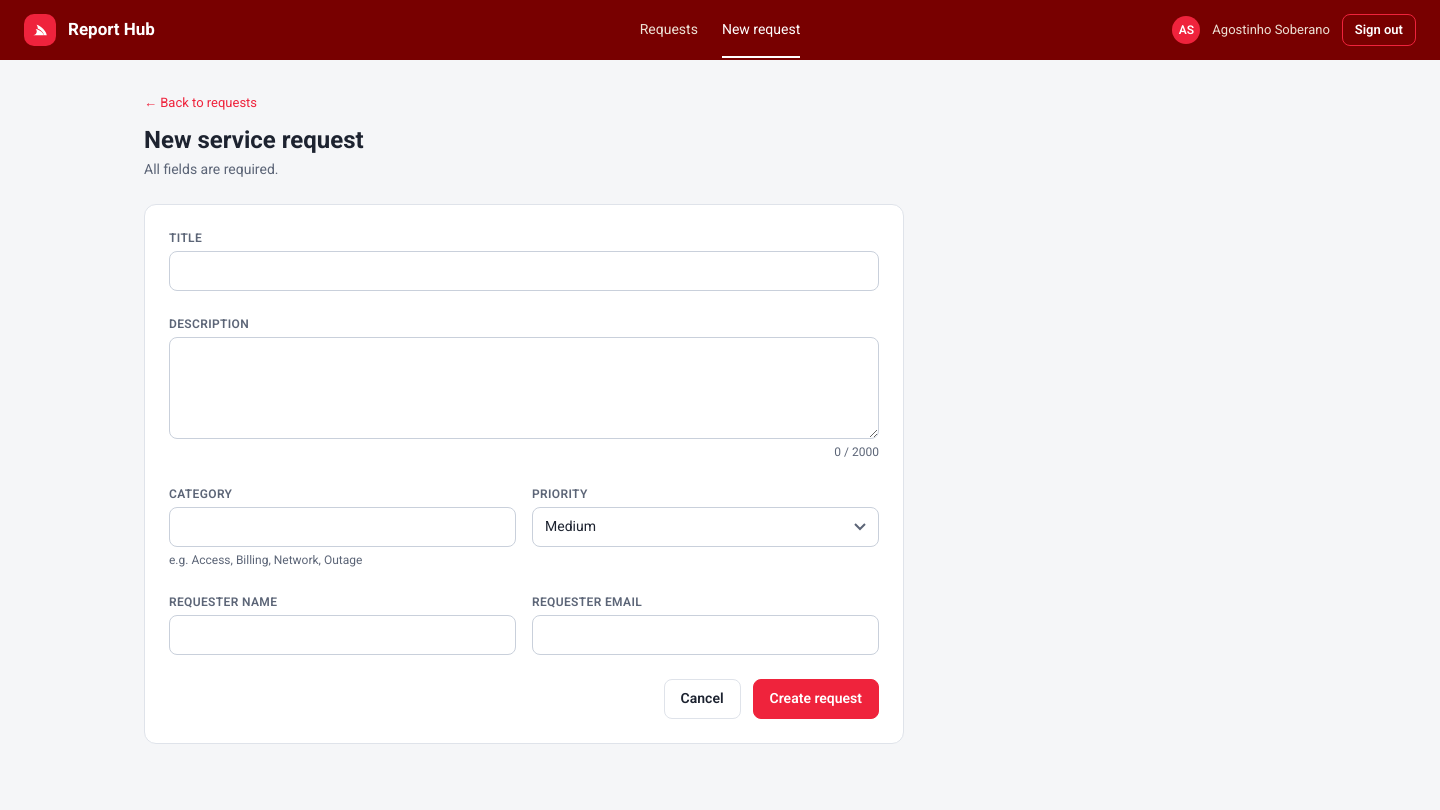
Test case: create request › puts the server's 422 messages under the matching fields
Type "March statement missing" into the field labelled "Title".
click(524, 270); type("March statement missing")  # box top-left (169, 250), bottom-right (879, 290)
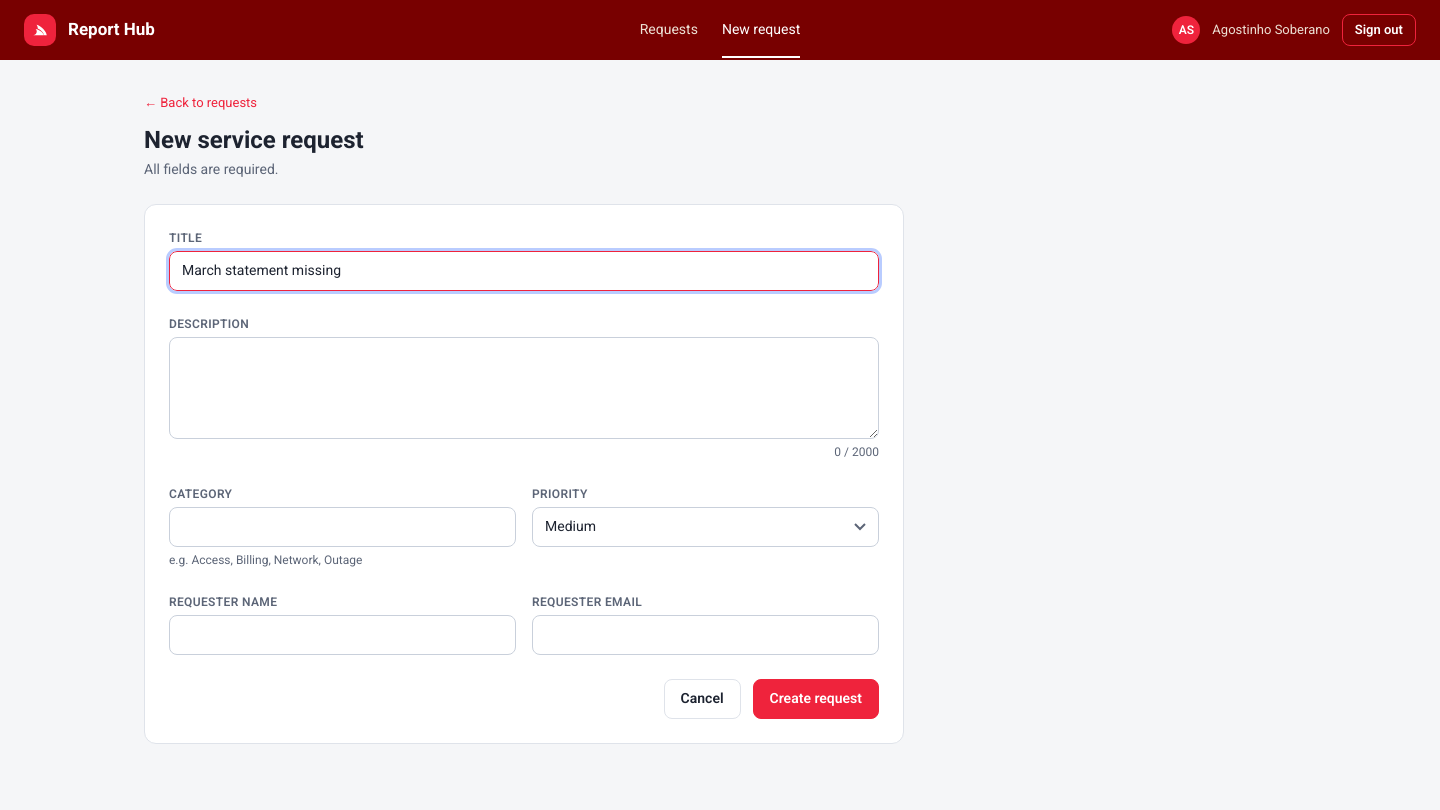
Type "The customer cannot see the March statement." into the text box labelled "Description".
click(524, 388); type("The customer cannot see the March statement.")  # box top-left (169, 336), bottom-right (879, 438)
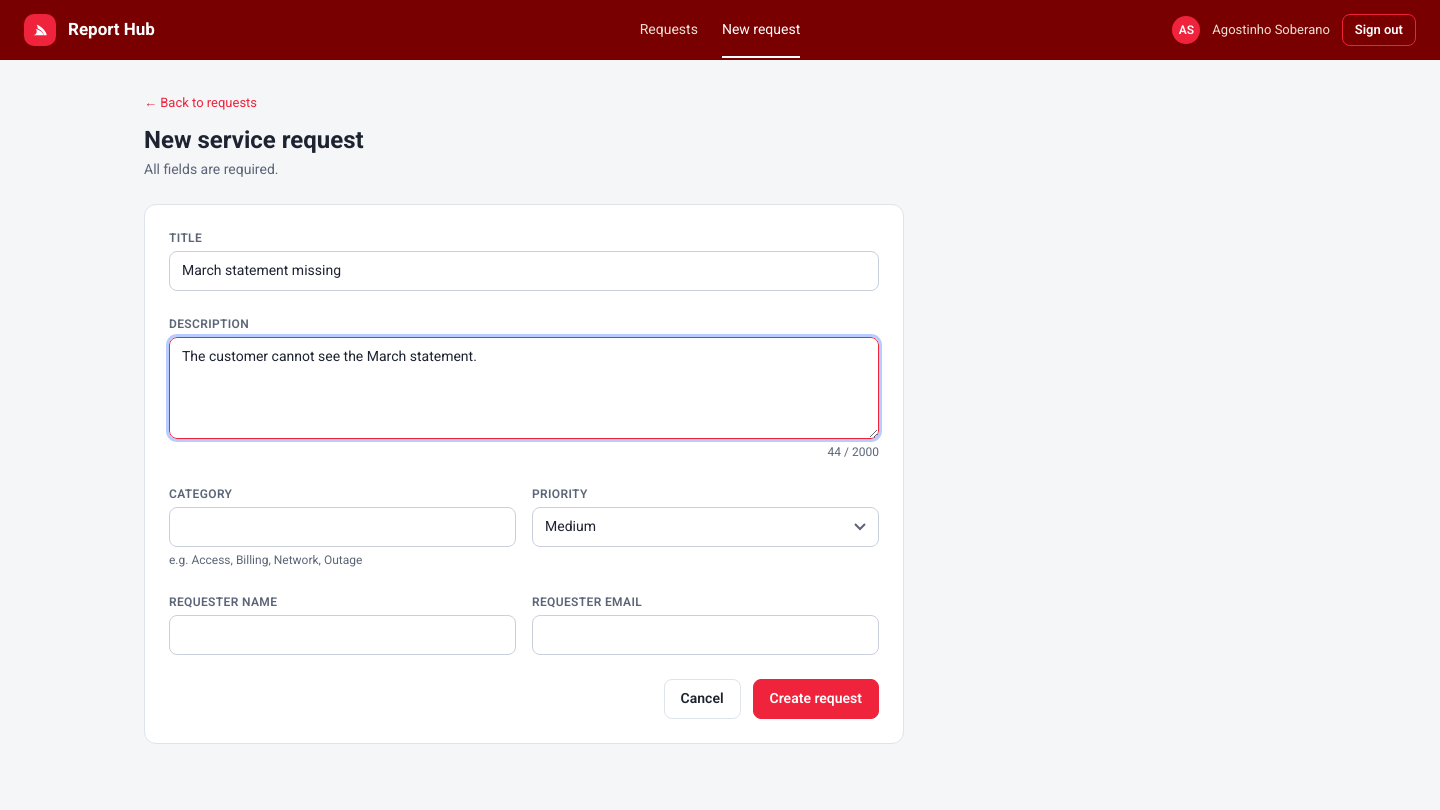
Type "Billing" into the field labelled "Category".
click(342, 526); type("Billing")  # box top-left (169, 506), bottom-right (516, 546)
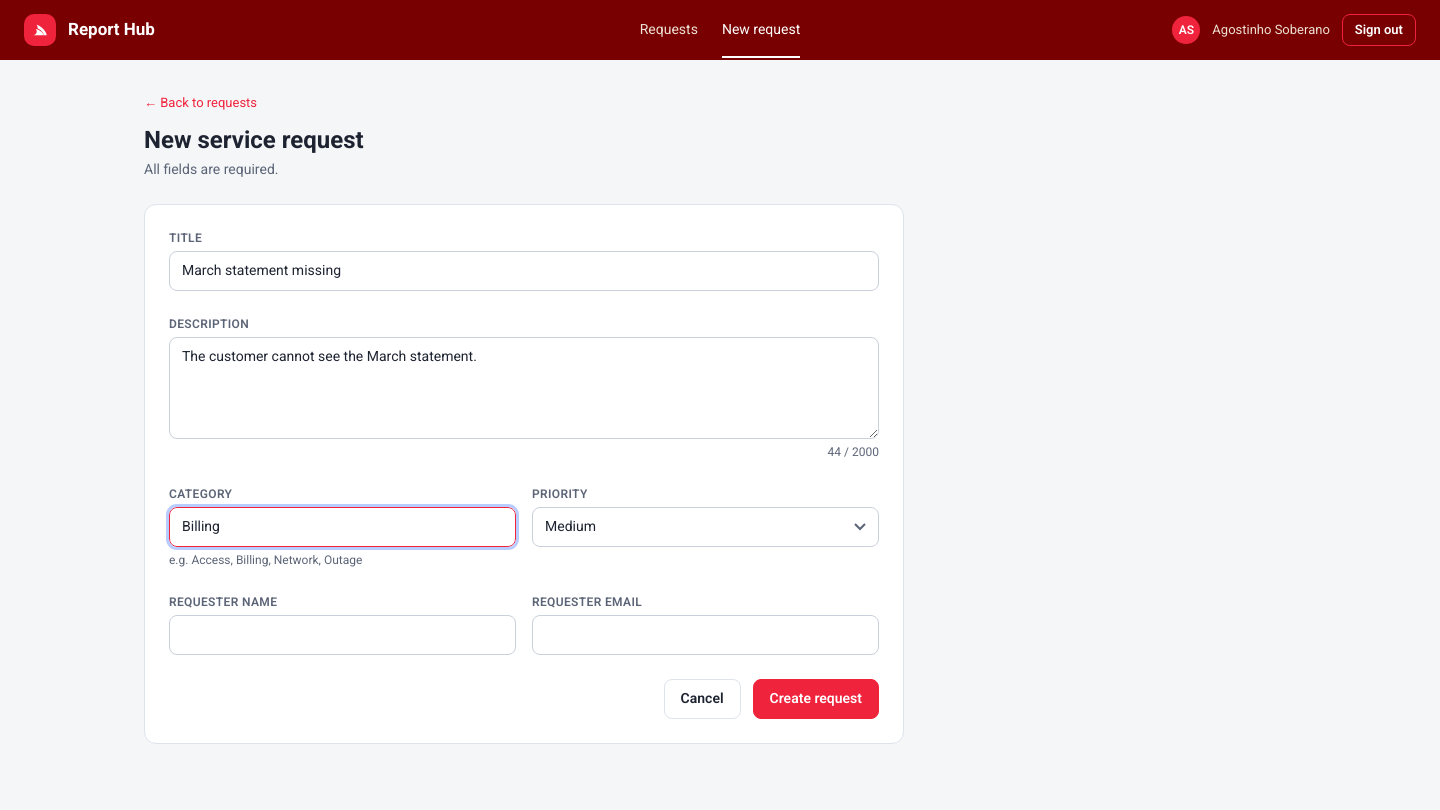
Type "Example Customer" into the field labelled "Requester name".
click(342, 634); type("Example Customer")  # box top-left (169, 614), bottom-right (516, 654)
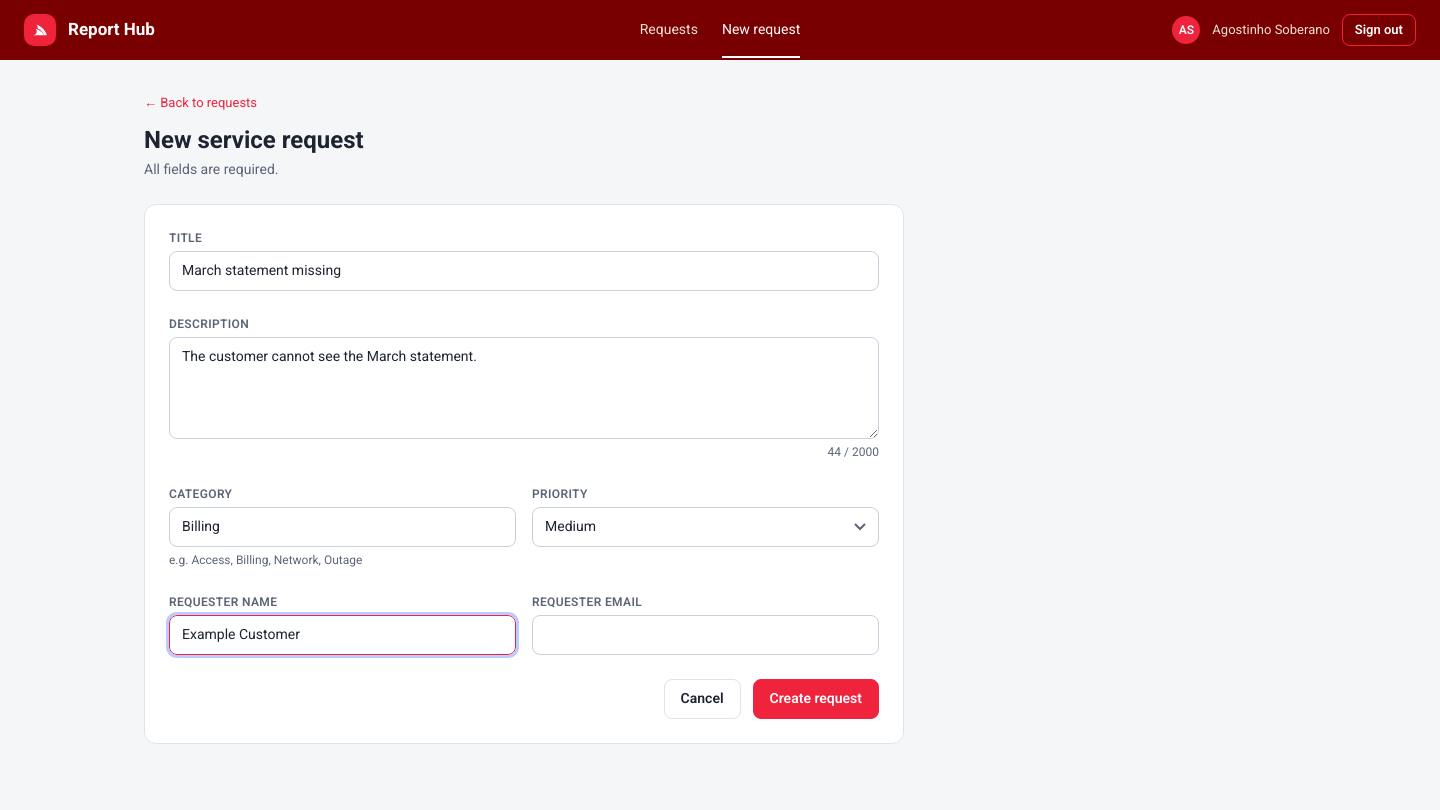
Type "customer@example.com" into the field labelled "Requester email".
click(706, 634); type("customer@example.com")  # box top-left (532, 614), bottom-right (879, 654)
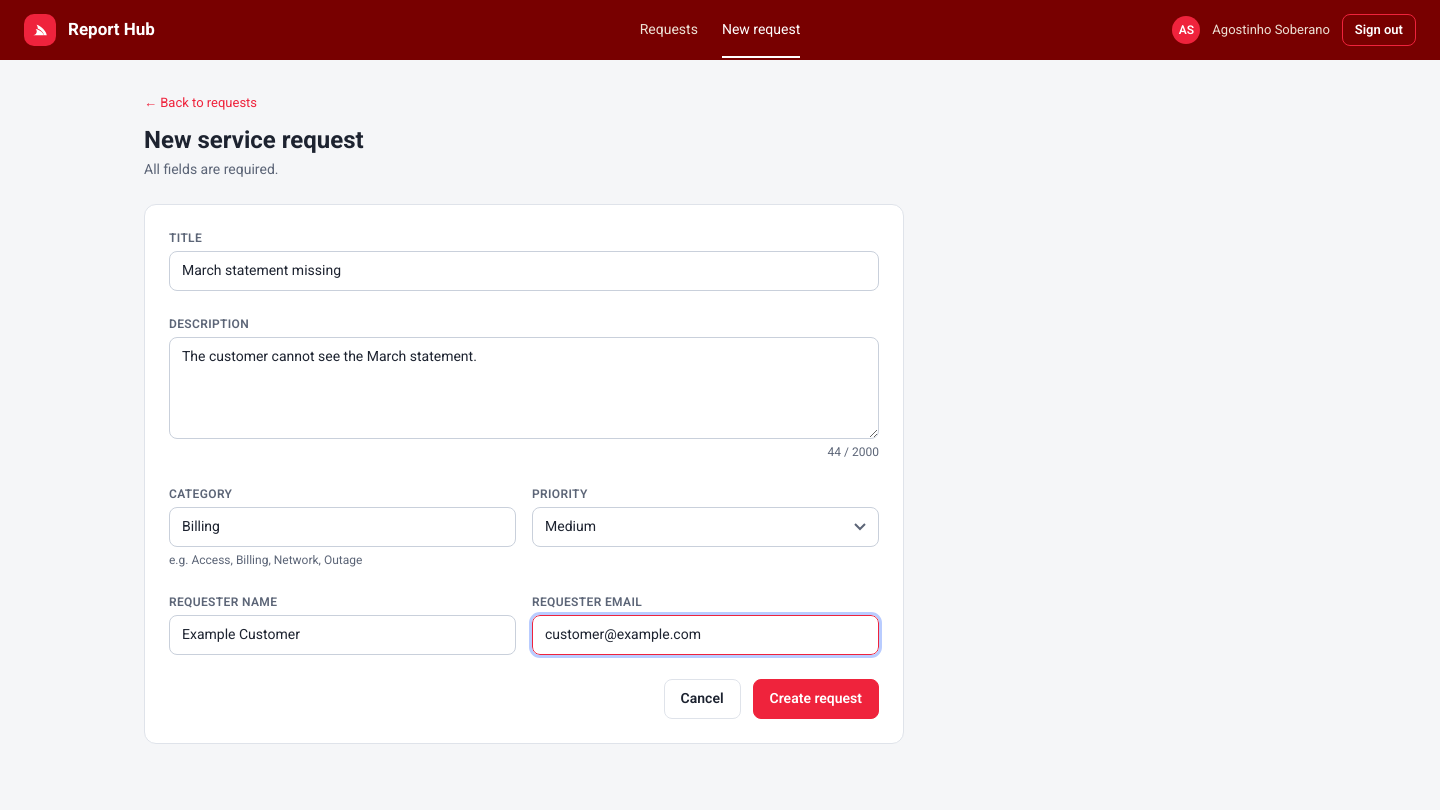
Click the button "Create request".
click(816, 698)  # box top-left (753, 678), bottom-right (879, 718)
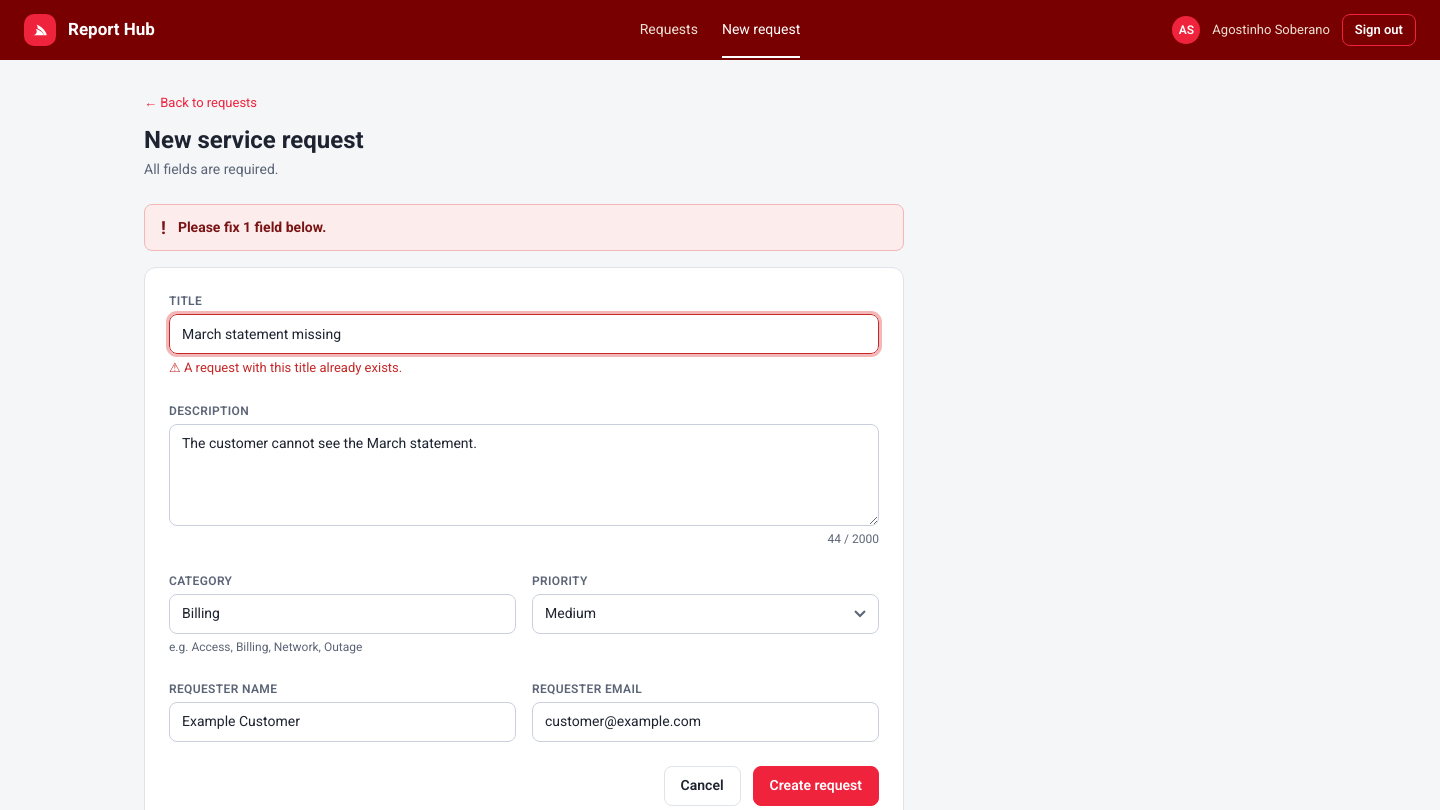
Check: the text "Please fix 1 field below." is shown, box top-left (178, 218), bottom-right (326, 234)
